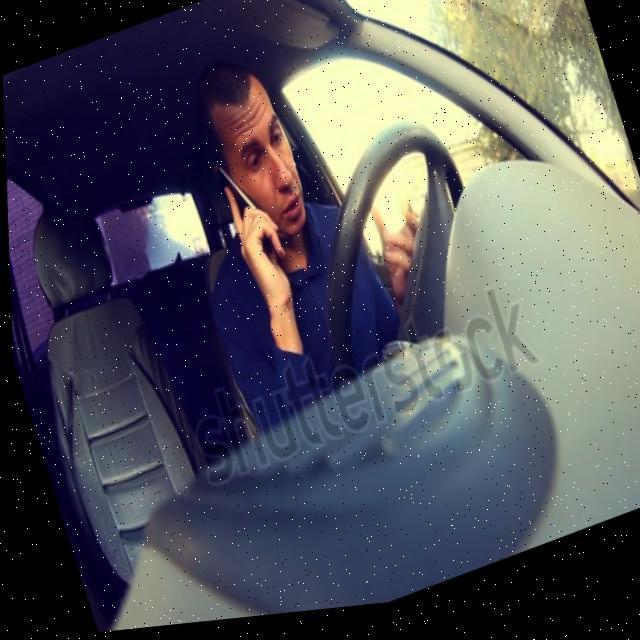PhoneCall: (210, 158, 279, 274)
